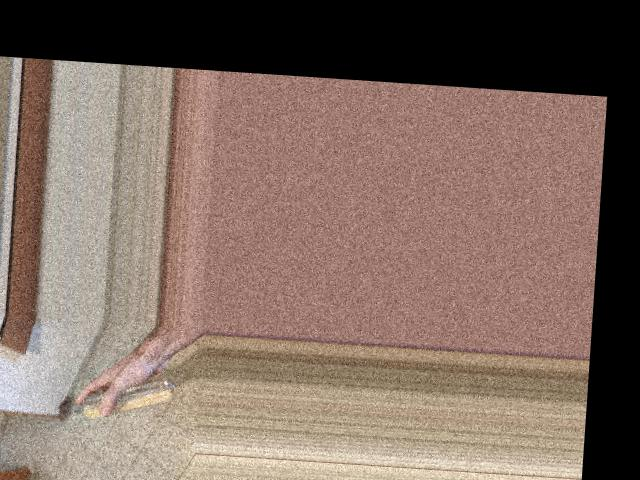cheese: (68, 348, 166, 435)
